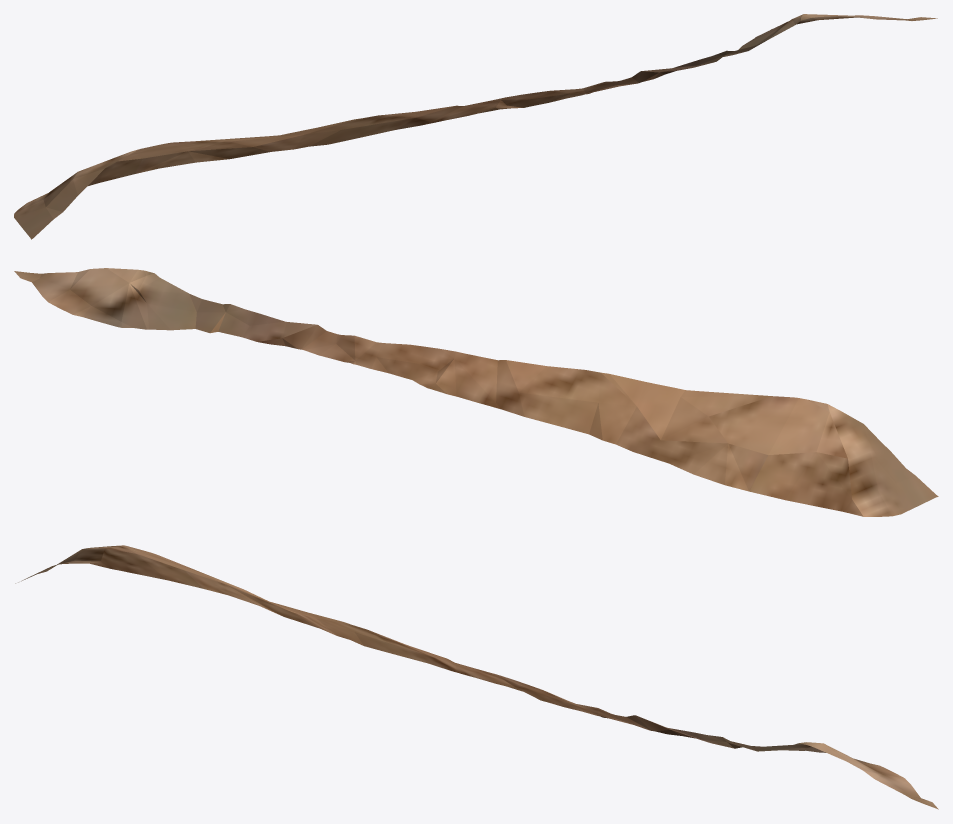
3 views of the same model, one above another, from view 1: azimuth 30°, elevation 25°; view 2: azimuth 150°, elevation 25°; view 3: azimuth 330°, elevation 25° (orthographic).
Size of the model in its own units: 1.22 by 0.0829 by 0.0969.
1 material, 1 textured.
